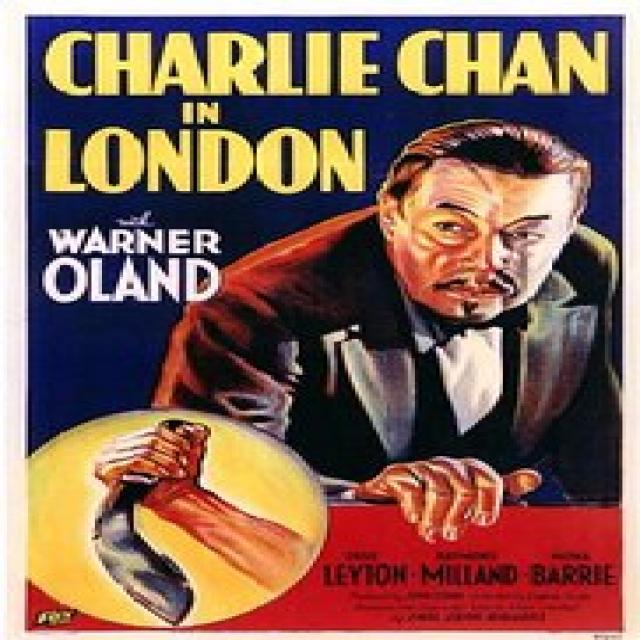movie-judul: (28, 27, 610, 194)
picture: (376, 124, 614, 330)
